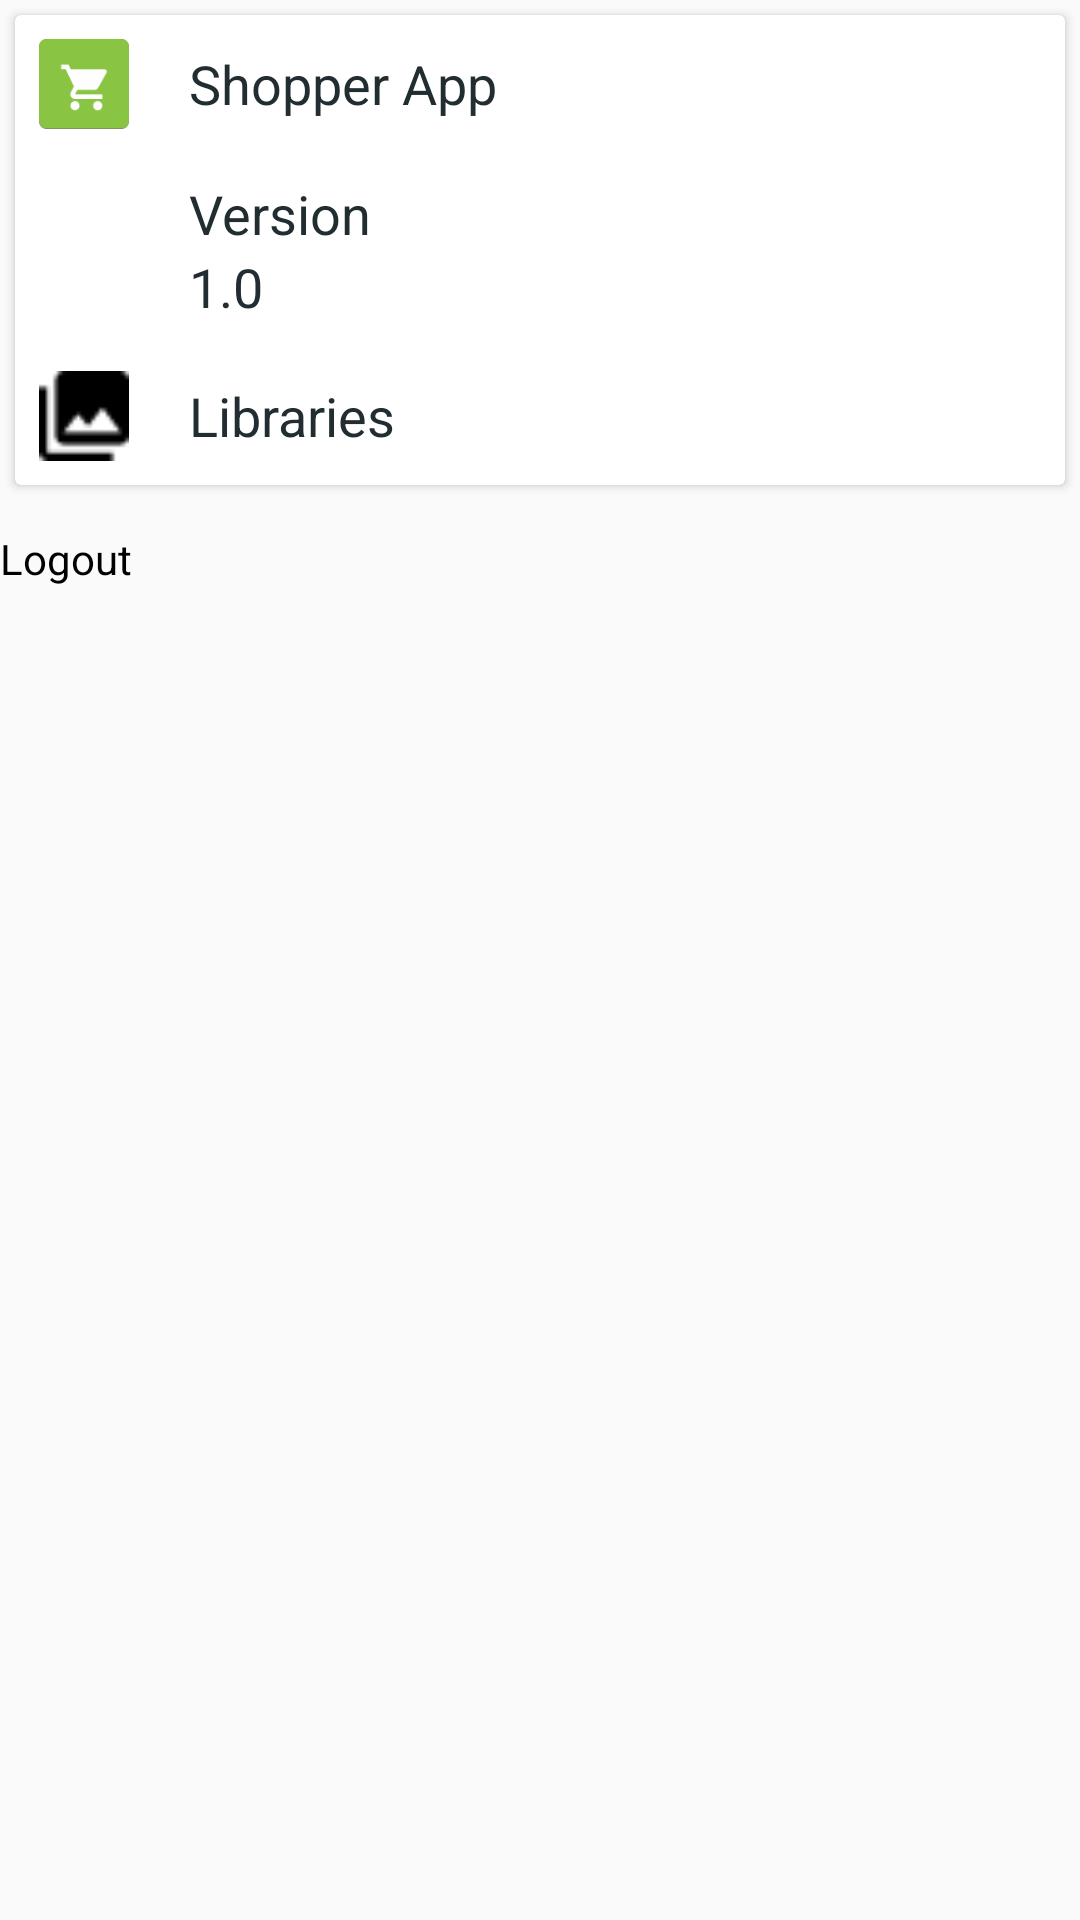

Icon click points for this 1080w x 1920h phone screenshot, format [x,y]:
lib: [84,416]
